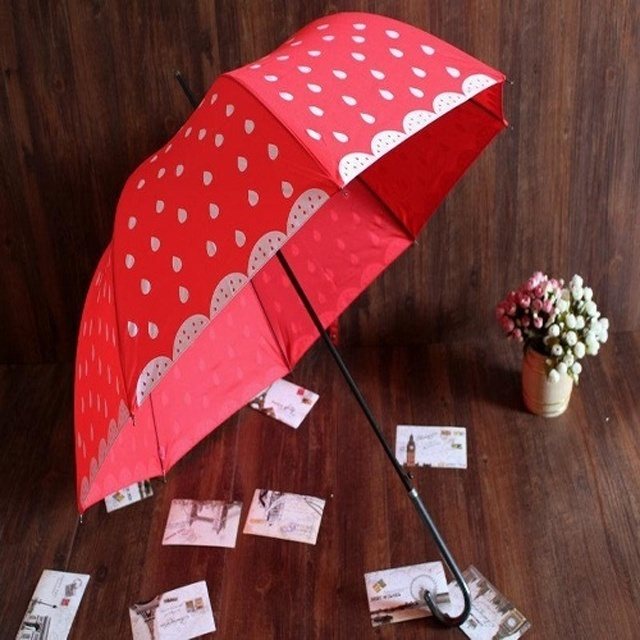umbrella: (68, 8, 520, 636)
